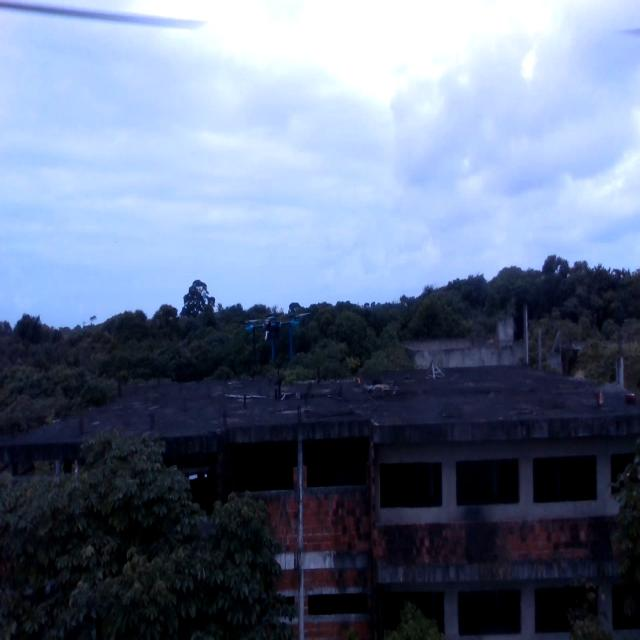-uav-: (236, 301, 312, 373)
